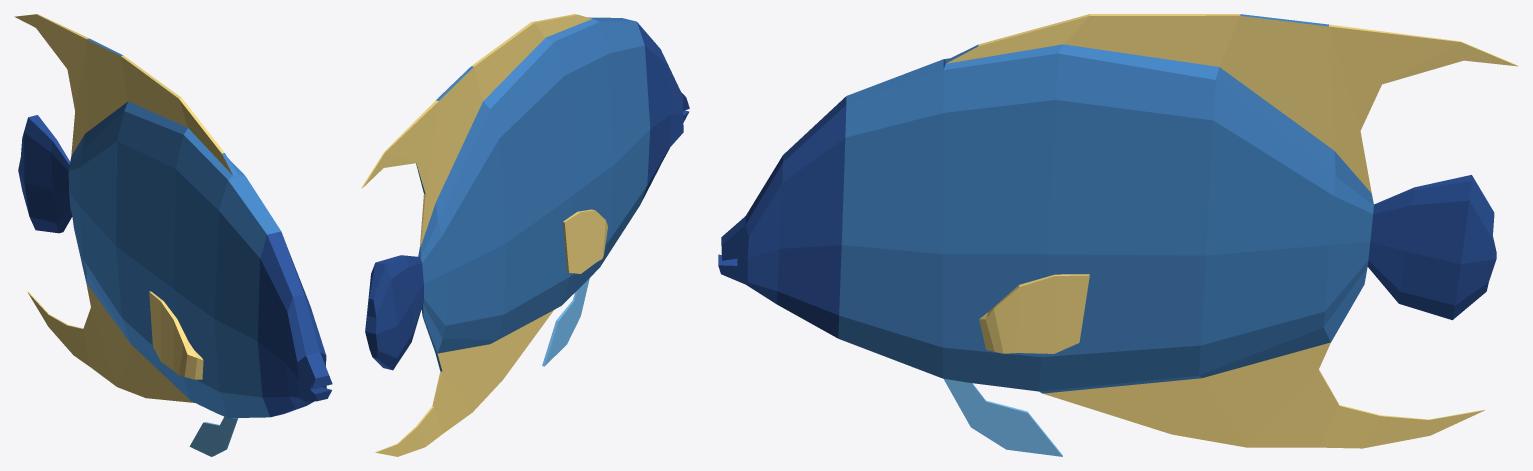
The model's file is fish_lp_2.fbx.
The picture shows the model from 3 angles, left to right: view 1: azimuth 30°, elevation 25°; view 2: azimuth 150°, elevation 25°; view 3: azimuth 270°, elevation 25°; orthographic projection. The views are drawn at different scales.
Visible parts, largest first — view 1: Fish; view 2: Fish; view 3: Fish.
Part boxes in pixels (left/top/right/bottom): Fish: left=14, top=14, right=332, bottom=456; Fish: left=361, top=14, right=689, bottom=456; Fish: left=718, top=14, right=1518, bottom=456.
Bounding box in the file's own units: 25.74 × 121 × 199.
